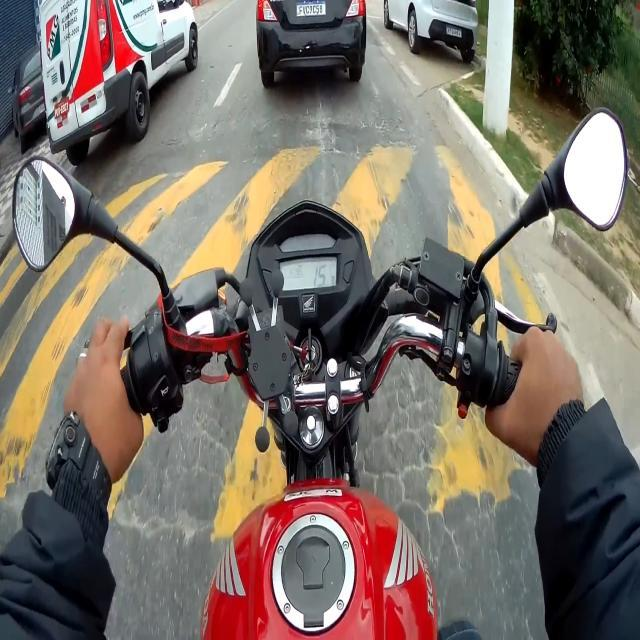Placa_mercosul_carro: (296, 1, 326, 16), (54, 96, 70, 119), (446, 24, 462, 39)
